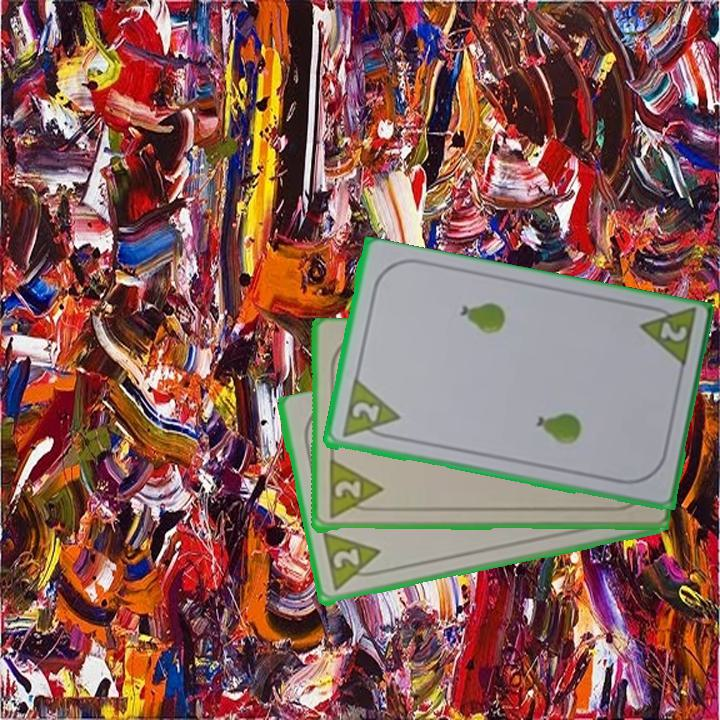2p: (634, 300, 699, 373), (318, 530, 387, 595), (338, 377, 402, 444), (330, 478, 363, 503)
